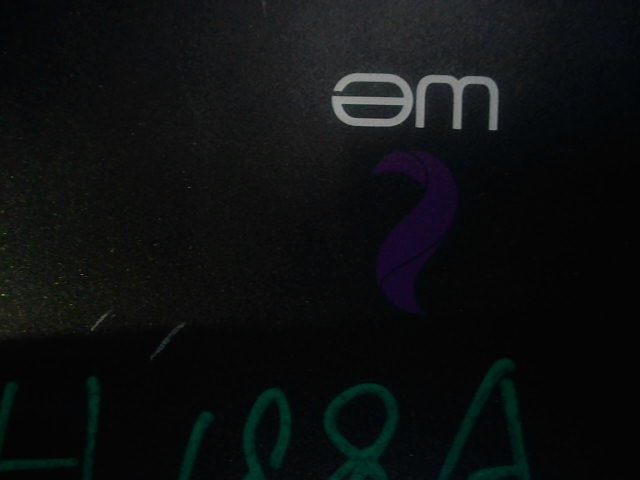AT_We: (322, 65, 505, 310)
